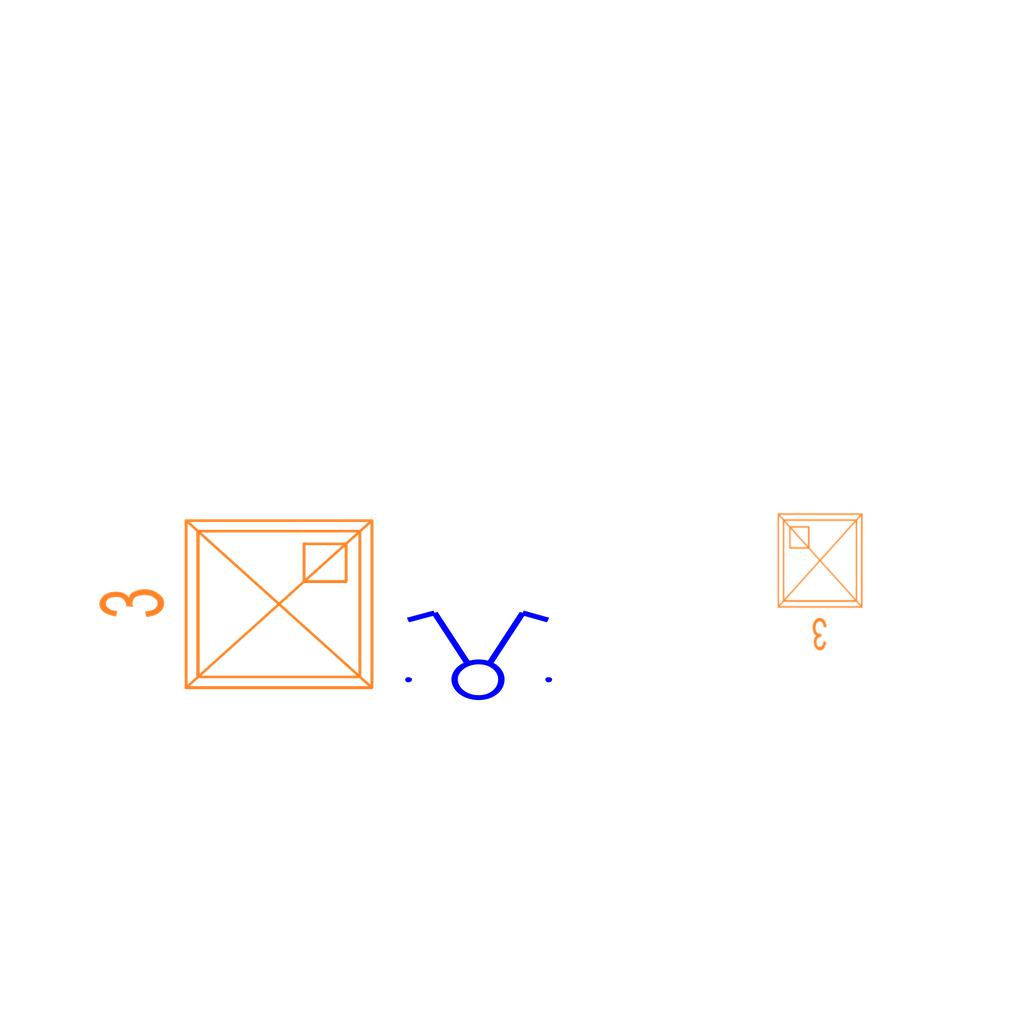Einbaudownlights_LED_Konferenzraeume: (88, 504, 388, 712), (770, 506, 874, 656)
Serienschalter: (393, 606, 561, 702)
